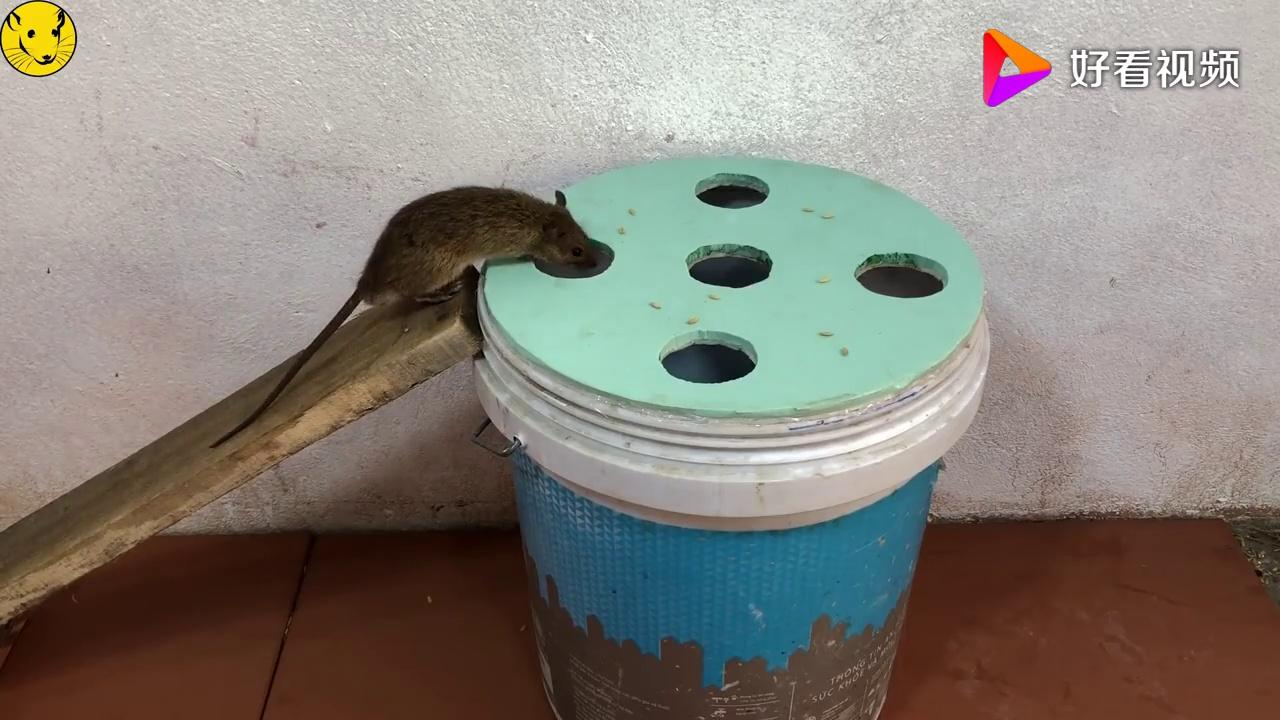rat: (293, 167, 615, 377)
